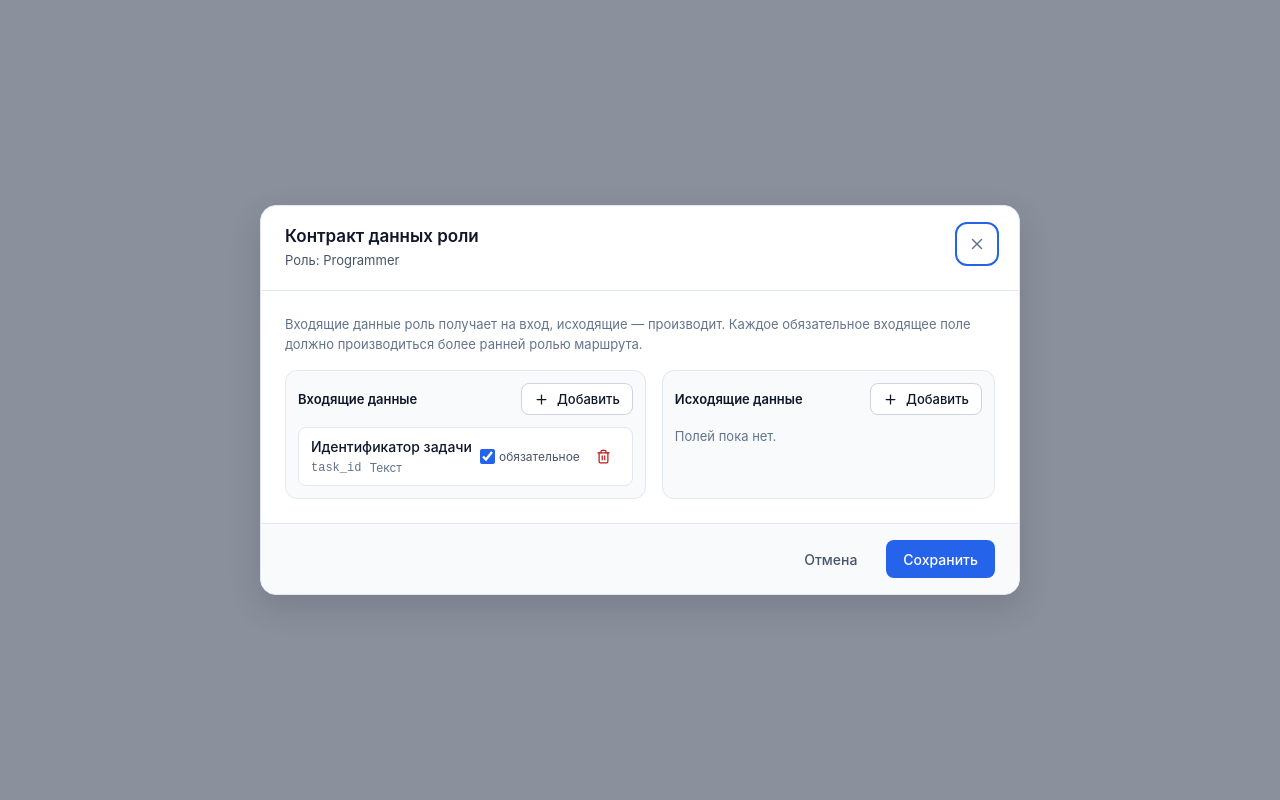
Test: RoleFieldsModal — контракт данных роли › добавление поля из справочника попадает в нужную колонку (Исходящие)
Note: Кнопка «Добавить» в колонке «Исходящие данные».
Step 1. Click the button "Добавить" next to "Исходящие данные" → {"x": 926, "y": 399}, box [870,383,982,415]
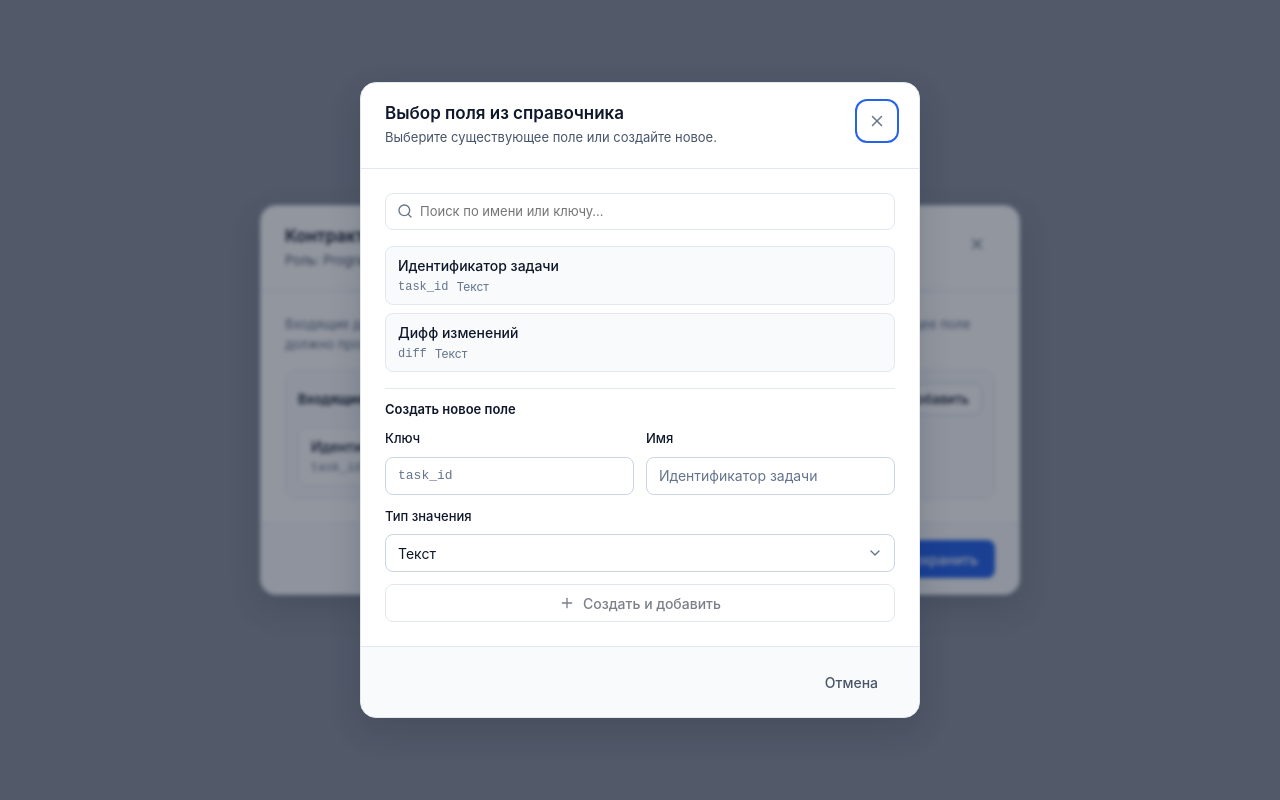
Note: Открылся пикер — выбираем поле «Дифф изменений».
Step 2. Click the button with aria-label "Добавить поле «Дифф изменений»" → {"x": 458, "y": 332}, box [385,313,895,372]
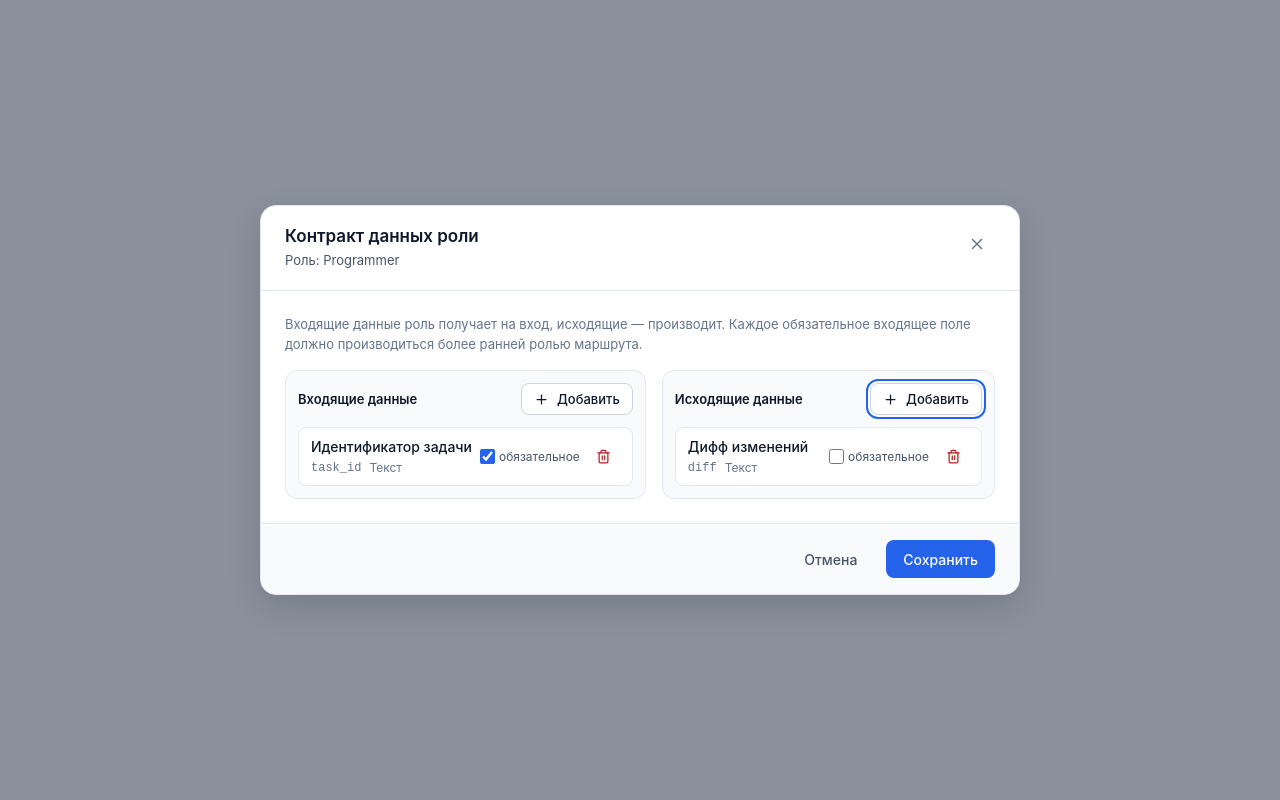
Expected: the element "Входящие данные" does not show "Дифф изменений", [285,370,646,499]
Expected: the element "Исходящие данные" shows "Дифф изменений", [688,438,808,455]
